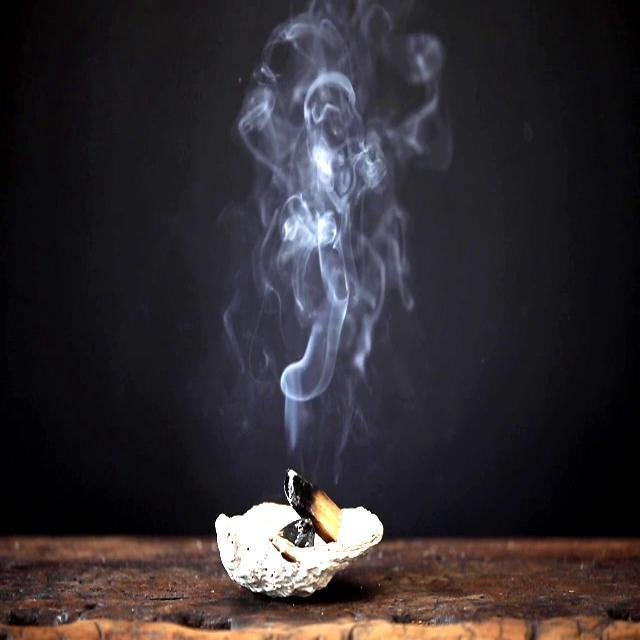Smoke: (222, 4, 433, 440)
